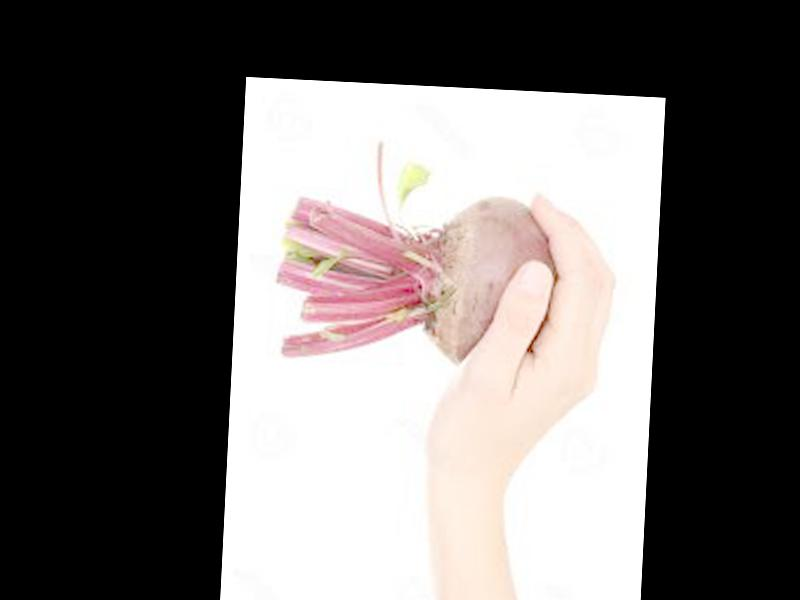Beet: (273, 135, 564, 368)
